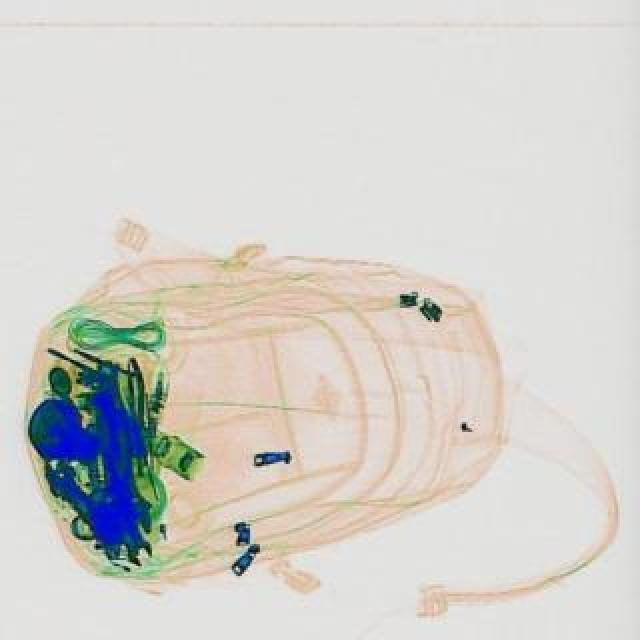scissors: (44, 456, 164, 568)
wrench: (110, 354, 158, 456)
